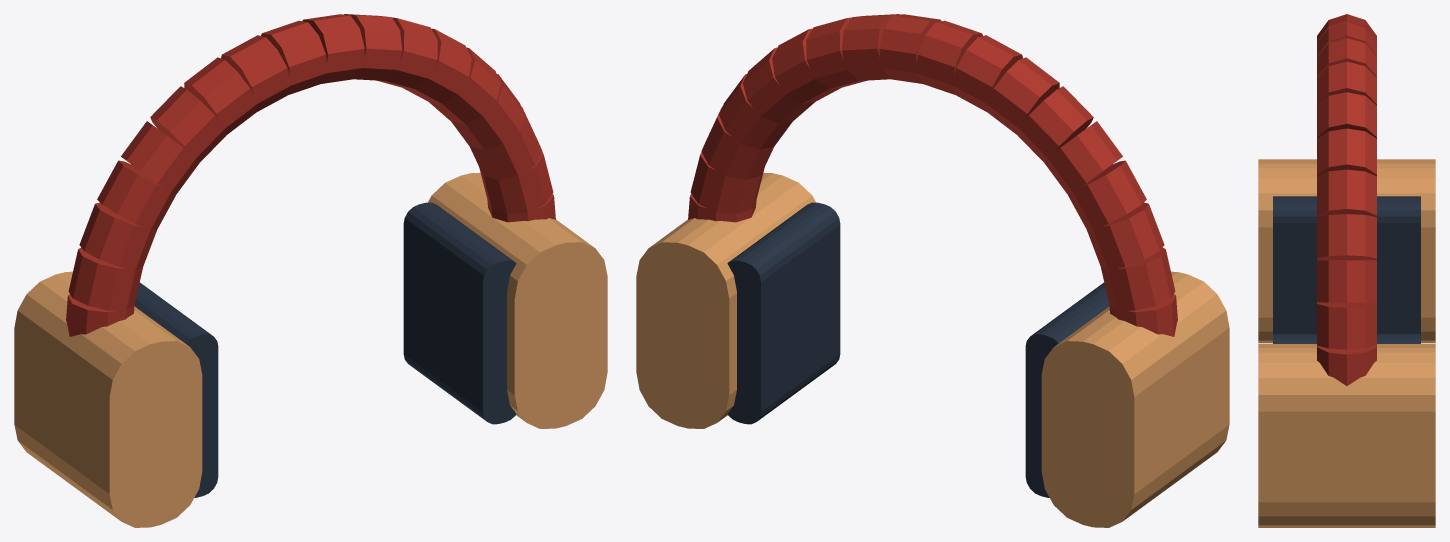
The model's file is headphones.glb.
3 views of the same model, side by side, from view 1: azimuth 30°, elevation 25°; view 2: azimuth 150°, elevation 25°; view 3: azimuth 270°, elevation 25° (orthographic). The views are drawn at different scales.
Parts seen in each view (by area): view 1: left cup, right cup, right pad, left pad, headband15, headband14, headband12, headband16, headband11, headband13, headband10, headband9 (+10 smaller); view 2: left cup, right cup, right pad, left pad, headband15, headband14, headband12, headband16, headband11, headband13, headband10, headband9 (+10 smaller); view 3: right cup, left pad, left cup, headband1, headband3, headband4, headband2, headband5, headband6, headband7, headband0, headband8 (+3 smaller).
Boxes of the visible parts, x1,y1,x2,y2 form: left cup: [14, 271, 202, 527]; right cup: [428, 172, 607, 428]; right pad: [403, 202, 516, 424]; left pad: [134, 282, 218, 497]; headband15: [79, 202, 156, 269]; headband14: [97, 160, 176, 230]; headband12: [150, 86, 226, 162]; headband16: [68, 247, 142, 310]; headband11: [184, 57, 257, 134]; headband13: [121, 121, 199, 194]; headband10: [221, 35, 292, 111]; headband9: [261, 20, 327, 94]; left cup: [1041, 271, 1229, 527]; right cup: [636, 172, 815, 428]; right pad: [727, 202, 840, 424]; left pad: [1025, 282, 1109, 497]; headband15: [1087, 202, 1164, 270]; headband14: [1067, 160, 1146, 230]; headband12: [1017, 86, 1093, 162]; headband16: [1101, 247, 1175, 310]; headband11: [986, 57, 1059, 134]; headband13: [1044, 121, 1122, 194]; headband10: [951, 35, 1022, 111]; headband9: [917, 20, 982, 94]; right cup: [1258, 344, 1435, 527]; left pad: [1273, 196, 1420, 333]; left cup: [1258, 159, 1435, 343]; headband1: [1317, 302, 1376, 349]; headband3: [1317, 214, 1376, 259]; headband4: [1317, 169, 1376, 216]; headband2: [1317, 260, 1376, 302]; headband5: [1317, 128, 1376, 176]; headband6: [1317, 92, 1376, 138]; headband7: [1317, 61, 1376, 105]; headband0: [1317, 345, 1376, 385]; headband8: [1317, 38, 1376, 77].
Size of the model in its own units: 1.45 by 1.17 by 0.48.
